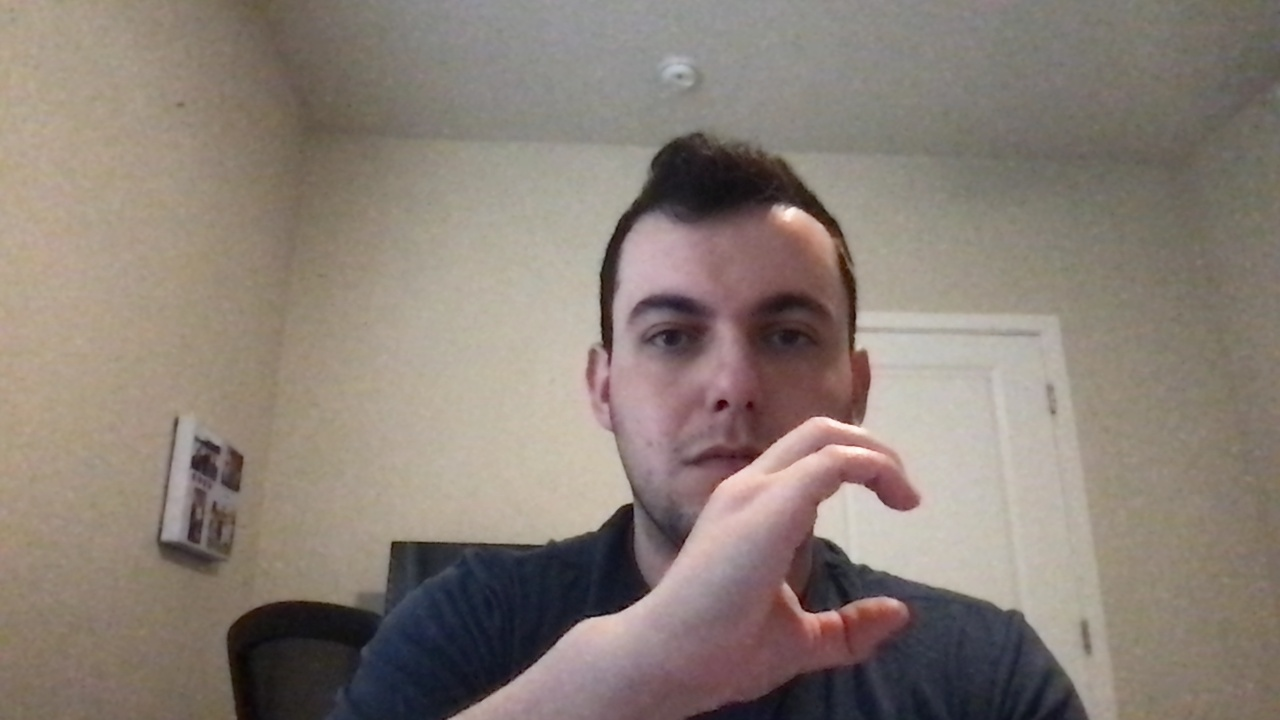c: (658, 413, 950, 686)
